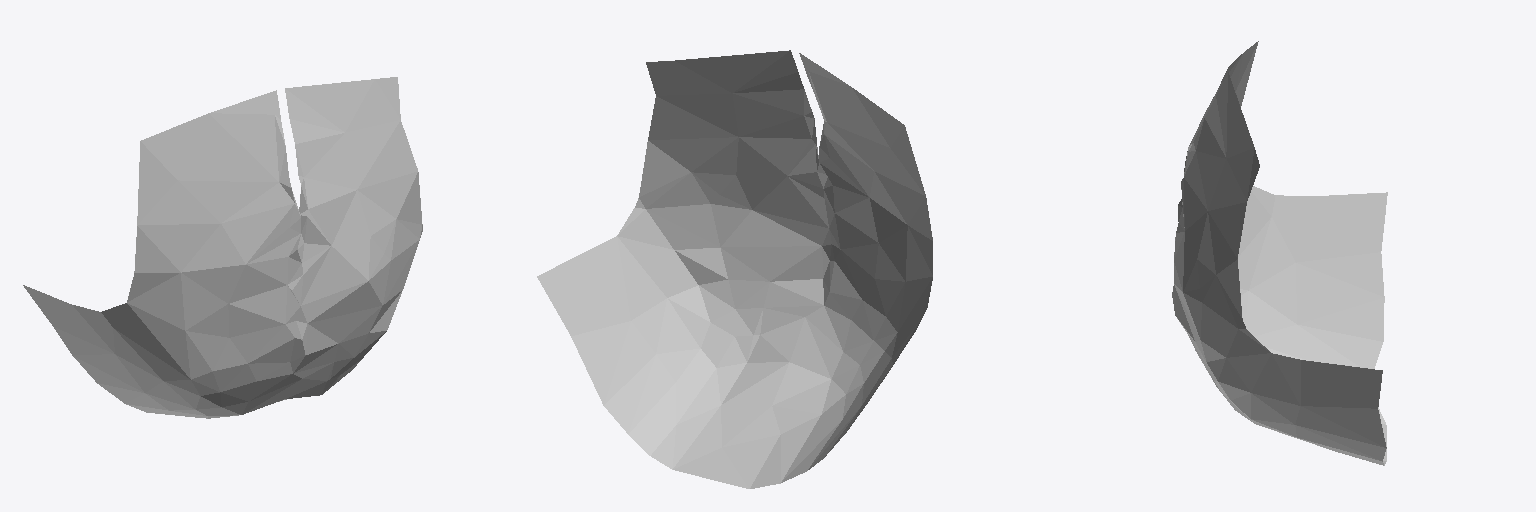
Rendered from growth_mesh_hairline.obj.
3 renders of one model, left to right at view 1: azimuth 30°, elevation 25°; view 2: azimuth 150°, elevation 25°; view 3: azimuth 270°, elevation 25°, orthographic.
Parts seen in each view (by area): view 1: growth_mesh1; view 2: growth_mesh1; view 3: growth_mesh1.
Part boxes in pixels (x1,y1,x2,y2): growth_mesh1: (23,77,422,418); growth_mesh1: (537,50,932,488); growth_mesh1: (1172,41,1387,465).
Size of the model in its own units: 42.38 by 41.89 by 22.03.